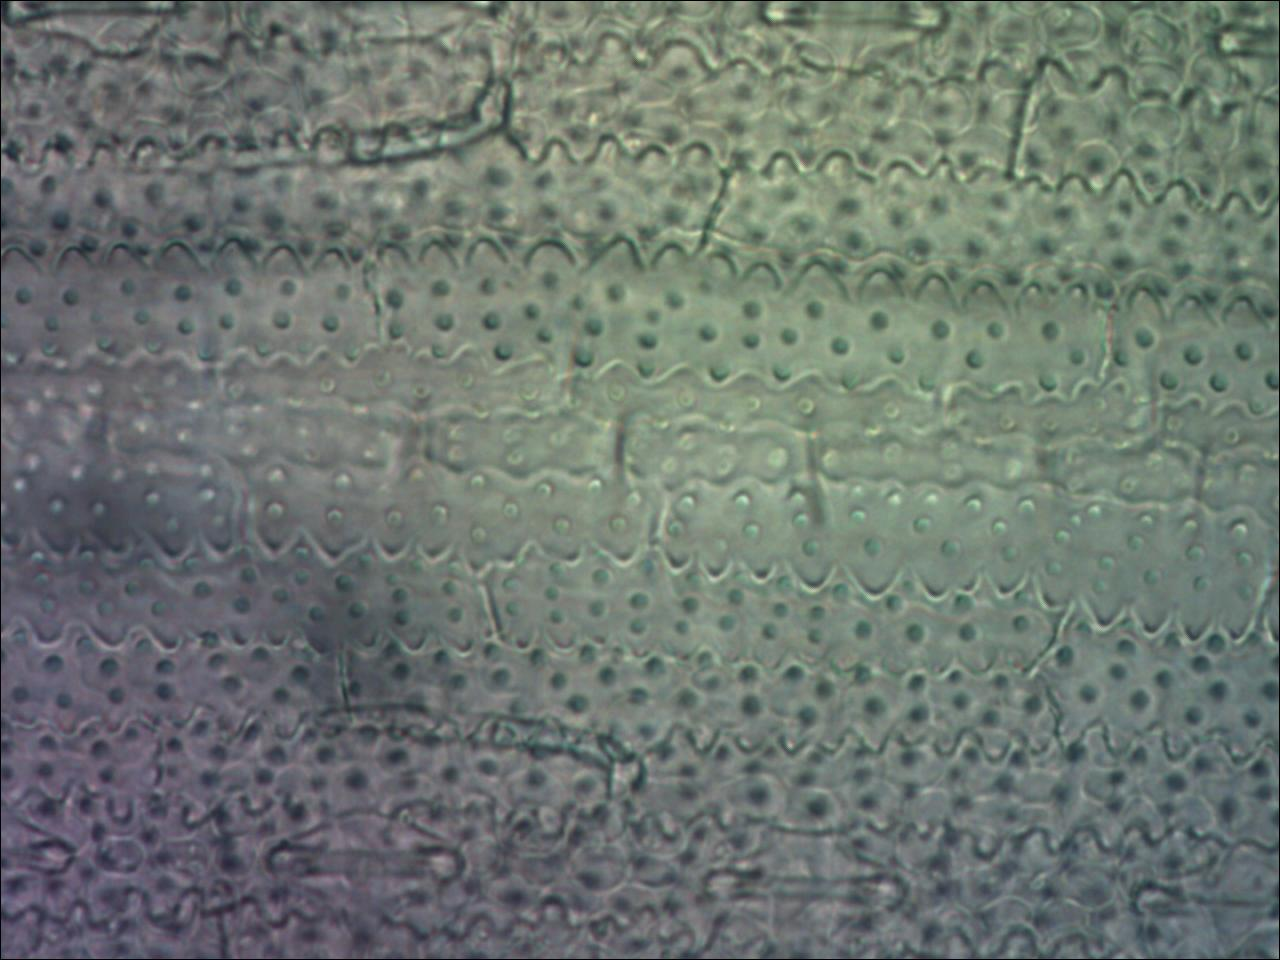stoma: (695, 813, 915, 948), (269, 803, 467, 925), (733, 1, 977, 79), (1112, 838, 1280, 945), (2, 1, 187, 66), (1, 792, 86, 894), (1201, 1, 1278, 105)
